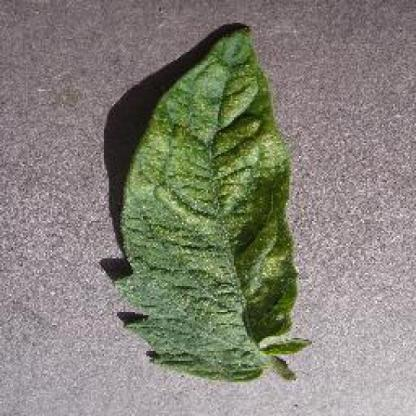Tomato_Spider_Mites: (115, 26, 308, 383)
